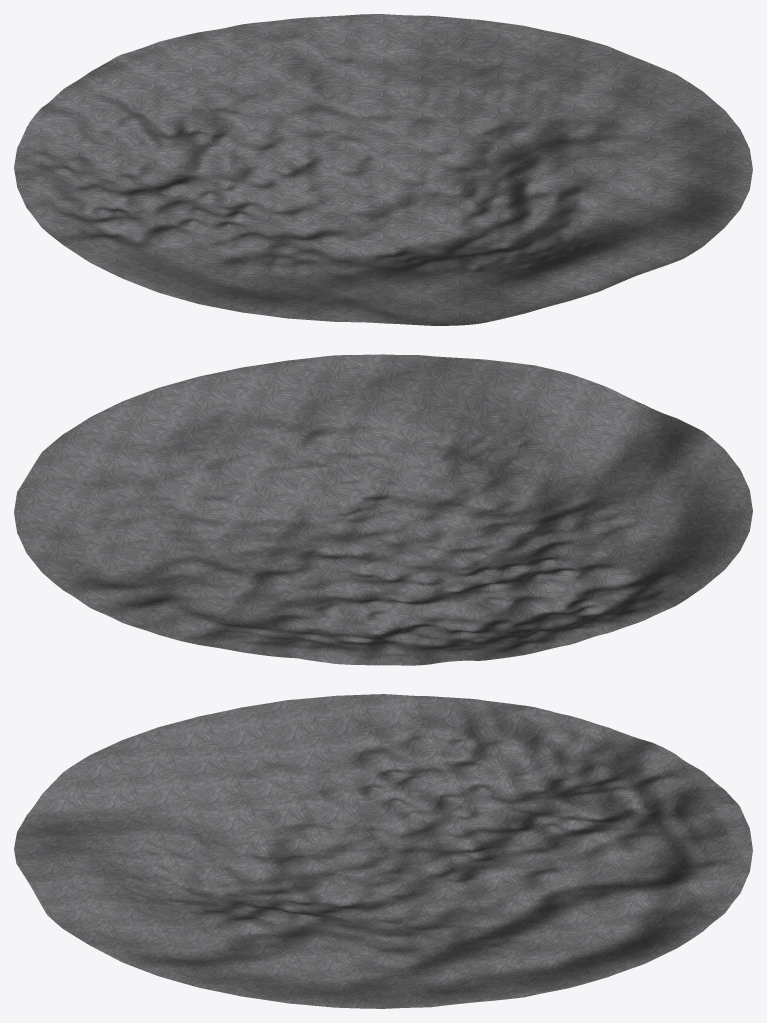
The model's file is cloud.fbx.
3 views of the same model, one above another, from view 1: azimuth 30°, elevation 25°; view 2: azimuth 150°, elevation 25°; view 3: azimuth 270°, elevation 25° (orthographic).
Parts seen in each view (by area): view 1: m002000_0; view 2: m002000_0; view 3: m002000_0.
Boxes of the visible parts, left/top/right/bottom form: m002000_0: left=14, top=14, right=752, bottom=325; m002000_0: left=14, top=354, right=752, bottom=665; m002000_0: left=14, top=694, right=752, bottom=1008.
Size of the model in its own units: 2e+07 by 986461 by 2e+07.
Materials: 1 (1 with a texture image).
